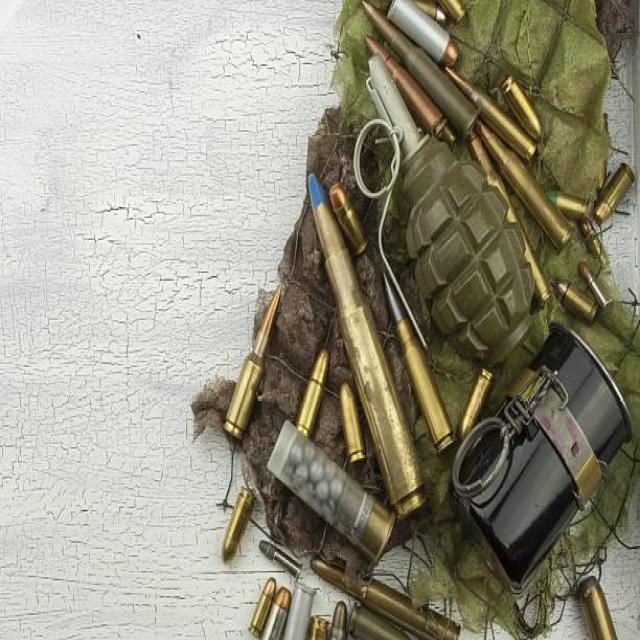grenade: (351, 56, 544, 377)
